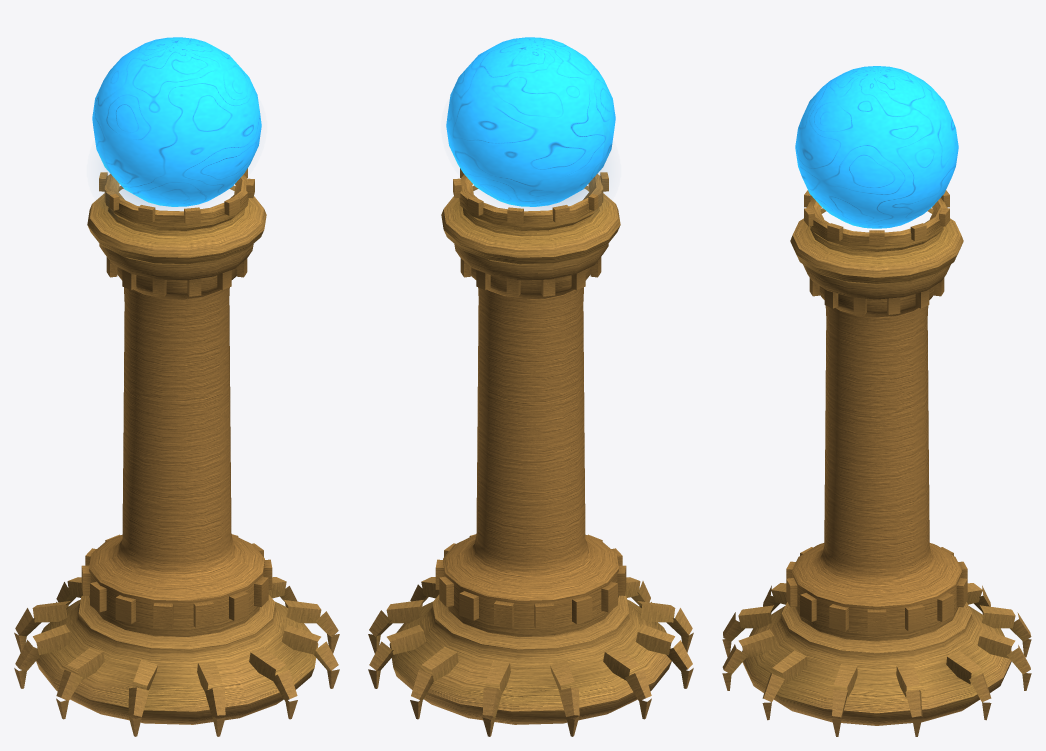
File: mm7_deco_dec68.glb
3 views of the same model, side by side, from view 1: azimuth 30°, elevation 25°; view 2: azimuth 150°, elevation 25°; view 3: azimuth 270°, elevation 25° (orthographic). The views are drawn at different scales.
Visible parts, largest first — view 1: Pedestal; view 2: Pedestal; view 3: Pedestal.
Boxes of the visible parts, bbox=[...] form: Pedestal: bbox=[14, 37, 339, 736]; Pedestal: bbox=[368, 37, 693, 736]; Pedestal: bbox=[722, 66, 1031, 736].
Bounding box in the file's own units: 1.13 × 2.46 × 1.13.
Materials: 3 (3 with a texture image).
